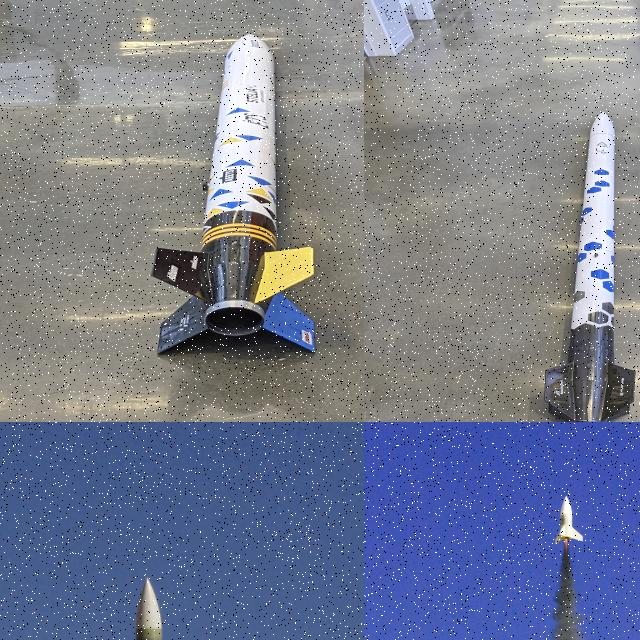Rocket: (150, 33, 316, 354), (544, 111, 636, 422), (117, 576, 186, 640), (554, 496, 584, 544)
